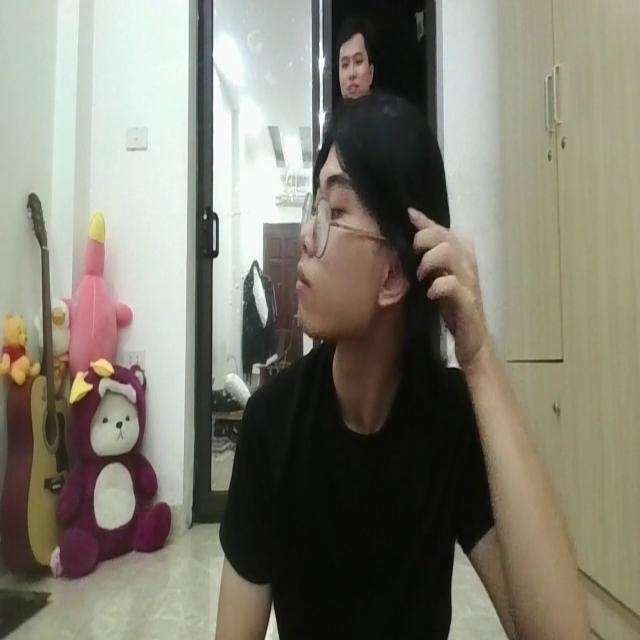student: (214, 92, 584, 640)
